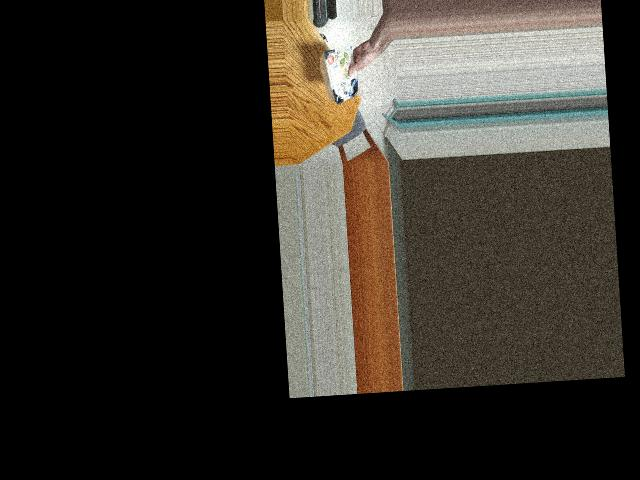cheese: (322, 48, 364, 101)
